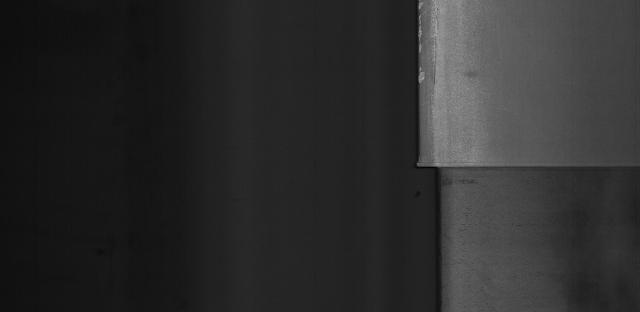welding_line: (415, 156, 640, 176)
